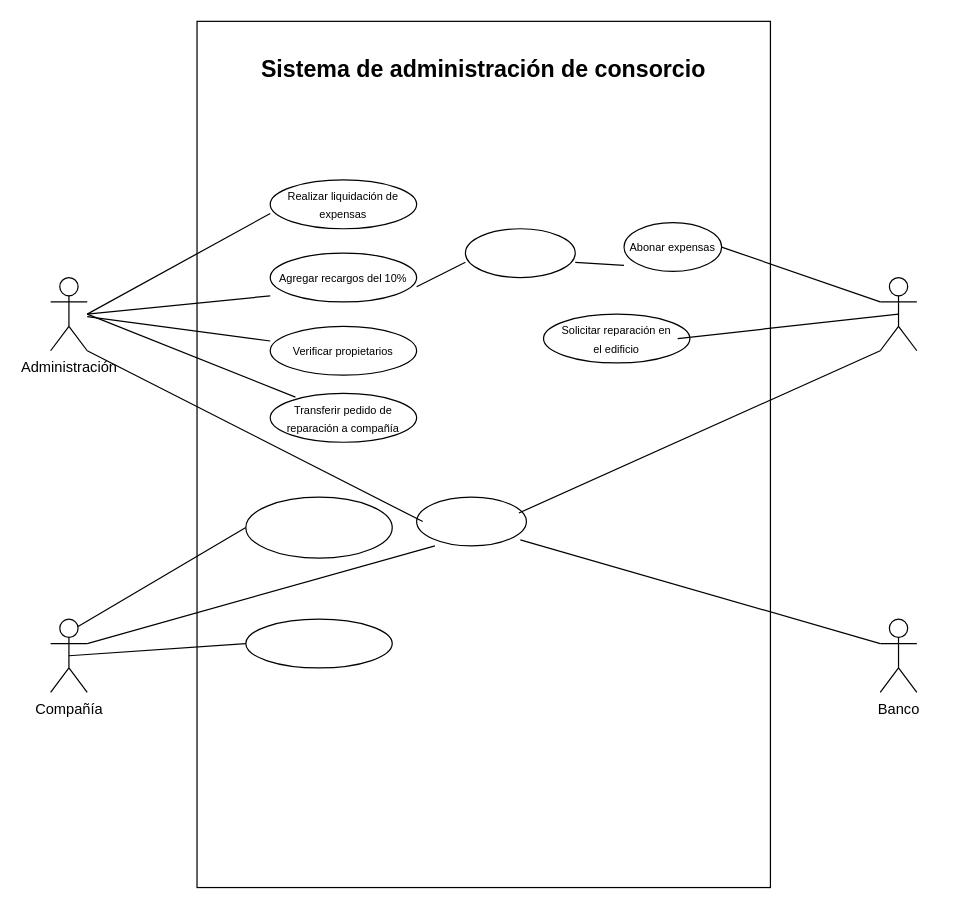
Some shapes in this 955 by 909 pixel diagram are drawn without their labels. Here are the shapes that lost their labels. From the top down, the box of each, then its label:
(464, 228, 575, 278): Pago atrasado
(879, 276, 917, 351): Propietario
(245, 496, 392, 558): Mantenimiento general de edificios
(415, 496, 526, 546): Ingresar al sistema
(245, 618, 392, 668): Informar monto a la administración
